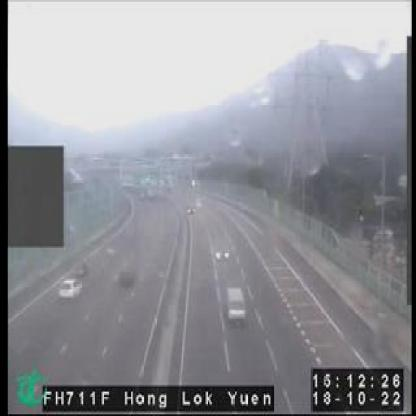Car: (60, 276, 83, 297)
Truck: (226, 285, 244, 326)
